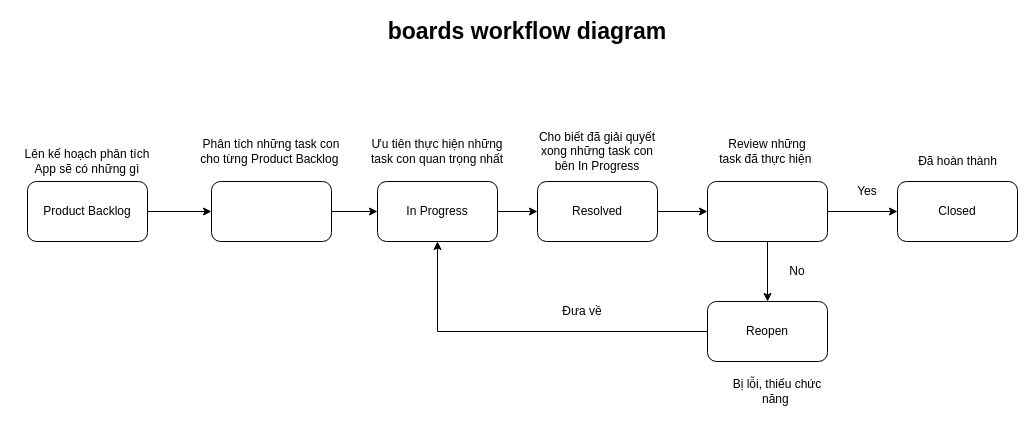
The diagram is 1035 pixels wide and 423 high, and some of its shapes have lost their labels. The centre of each missing label's shape, as x and y in pixels:
"Reviewing" goes at point 767,211.
"Sprint Backlog" goes at point 271,211.
